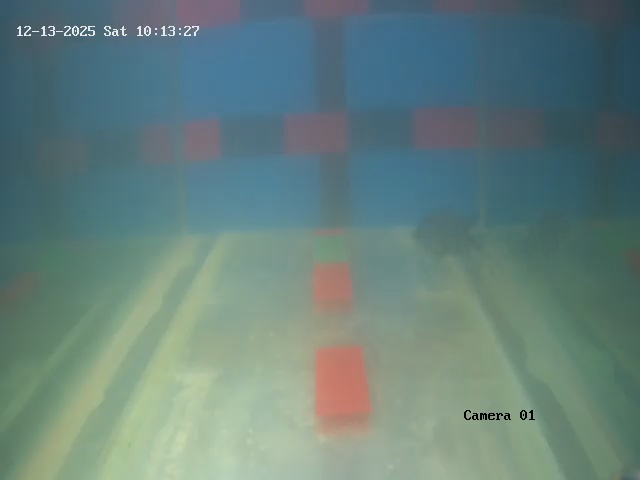fish: (407, 207, 497, 264)
